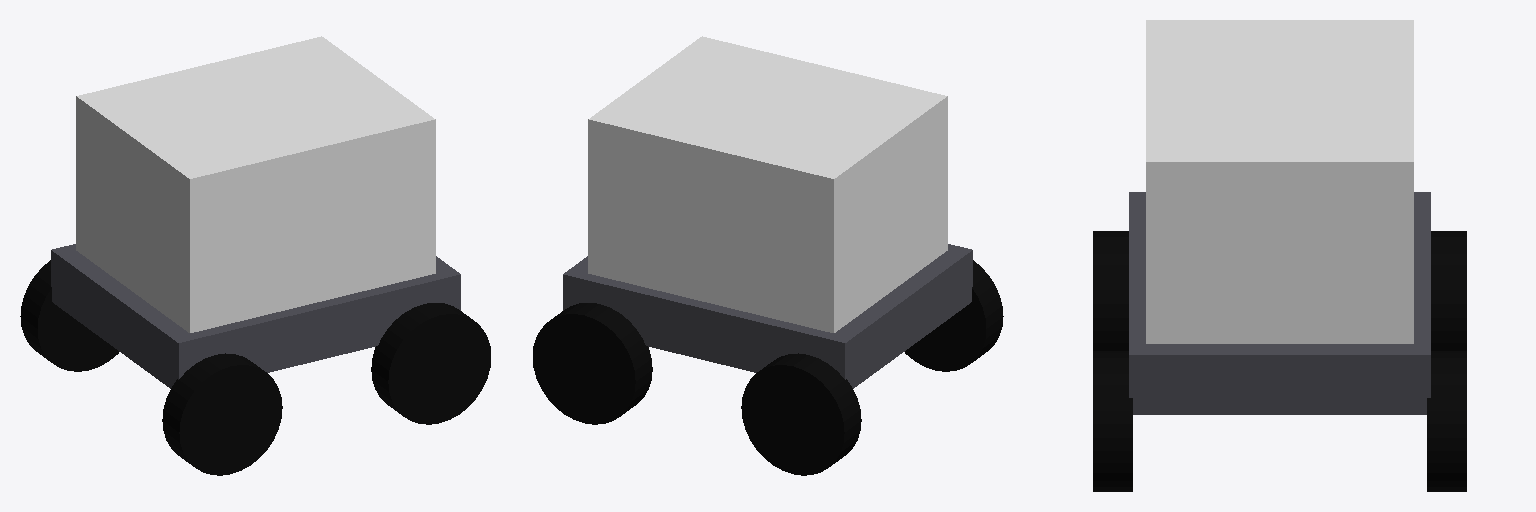
robot.urdf — mse6_4wd:
<?xml version="1.0"?>
<!--
  MSE-6 4WD rover URDF — placeholder geometry for the sim-to-real scaffold.

  Conventions:
    - SI units: meters, kilograms, radians.
    - World/base frame: x forward, y left, z up.
    - Continuous wheel joints (no angle limits) per the differential-drive
      action space. Front-left + rear-left share a side, FR + RR the other.
    - Inertial values reflect a top-heavy hollow shell over a 4WD chassis;
      shell_mass/com_offset are overridden at runtime from
      ``RoverInertialConfig`` so this file stays a sensible default.
    - Meshes intentionally absent: this PR ships primitive boxes/cylinders
      so the URDF loads in any viewer without external assets. Real CAD
      meshes will replace these once authored.
-->
<robot name="mse6_4wd">

  <!-- ===================== Materials ===================== -->
  <material name="droid_white">
    <color rgba="0.92 0.92 0.92 1.0"/>
  </material>
  <material name="tire_black">
    <color rgba="0.08 0.08 0.08 1.0"/>
  </material>
  <material name="chassis_grey">
    <color rgba="0.35 0.35 0.38 1.0"/>
  </material>

  <!-- ===================== Base / Chassis ===================== -->
  <!--
    base_link models the chassis plate plus the MSE-6 shell as a single
    rigid body. The shell sits above the chassis so the COM is biased
    upward, matching the top-heavy roll dynamics the policy must learn.

    Approximate values for a 230 mm x 180 mm chassis with a hollow ABS
    shell at 3 mm wall / 20% infill. Re-derived at runtime from
    RoverInertialConfig — these are documentation-quality defaults only.
  -->
  <link name="base_link">
    <inertial>
      <origin xyz="0.0 0.0 0.04" rpy="0 0 0"/>
      <mass value="1.45"/>
      <!--
        Cuboid approximation: 0.23 m (x) x 0.18 m (y) x 0.14 m (z).
          ixx = (1/12) * m * (y^2 + z^2)
          iyy = (1/12) * m * (x^2 + z^2)
          izz = (1/12) * m * (x^2 + y^2)
      -->
      <inertia
        ixx="0.00629" ixy="0.0" ixz="0.0"
        iyy="0.00876" iyz="0.0"
        izz="0.01030"/>
    </inertial>
    <visual>
      <origin xyz="0.0 0.0 0.02" rpy="0 0 0"/>
      <geometry>
        <box size="0.23 0.18 0.04"/>
      </geometry>
      <material name="chassis_grey"/>
    </visual>
    <visual>
      <origin xyz="0.0 0.0 0.10" rpy="0 0 0"/>
      <geometry>
        <box size="0.20 0.16 0.12"/>
      </geometry>
      <material name="droid_white"/>
    </visual>
    <collision>
      <origin xyz="0.0 0.0 0.06" rpy="0 0 0"/>
      <geometry>
        <box size="0.23 0.18 0.16"/>
      </geometry>
    </collision>
  </link>

  <!-- ===================== Wheels ===================== -->
  <!--
    Continuous joints (no angle limits) so the policy can command
    unbounded rotation. Wheels are visually cylinders aligned along
    the body Y axis (rotated 90 deg about X for the URDF convention).
  -->

  <!-- Front-Left wheel -->
  <link name="wheel_fl">
    <inertial>
      <origin xyz="0.0 0.0 0.0" rpy="0 0 0"/>
      <mass value="0.06"/>
      <!-- Solid cylinder: r=0.042, h=0.024
           ixx = iyy = (1/12) m (3 r^2 + h^2)
           izz = (1/2) m r^2  (axis through cylinder axis) -->
      <inertia
        ixx="0.0000293" ixy="0.0" ixz="0.0"
        iyy="0.0000293" iyz="0.0"
        izz="0.0000529"/>
    </inertial>
    <visual>
      <origin xyz="0.0 0.0 0.0" rpy="1.5707963 0 0"/>
      <geometry>
        <cylinder radius="0.042" length="0.024"/>
      </geometry>
      <material name="tire_black"/>
    </visual>
    <collision>
      <origin xyz="0.0 0.0 0.0" rpy="1.5707963 0 0"/>
      <geometry>
        <cylinder radius="0.042" length="0.024"/>
      </geometry>
    </collision>
  </link>

  <joint name="joint_wheel_fl" type="continuous">
    <parent link="base_link"/>
    <child link="wheel_fl"/>
    <origin xyz="0.085 0.10 -0.018" rpy="0 0 0"/>
    <axis xyz="0 1 0"/>
    <dynamics damping="0.01" friction="0.0"/>
  </joint>

  <!-- Front-Right wheel -->
  <link name="wheel_fr">
    <inertial>
      <origin xyz="0.0 0.0 0.0" rpy="0 0 0"/>
      <mass value="0.06"/>
      <inertia
        ixx="0.0000293" ixy="0.0" ixz="0.0"
        iyy="0.0000293" iyz="0.0"
        izz="0.0000529"/>
    </inertial>
    <visual>
      <origin xyz="0.0 0.0 0.0" rpy="1.5707963 0 0"/>
      <geometry>
        <cylinder radius="0.042" length="0.024"/>
      </geometry>
      <material name="tire_black"/>
    </visual>
    <collision>
      <origin xyz="0.0 0.0 0.0" rpy="1.5707963 0 0"/>
      <geometry>
        <cylinder radius="0.042" length="0.024"/>
      </geometry>
    </collision>
  </link>

  <joint name="joint_wheel_fr" type="continuous">
    <parent link="base_link"/>
    <child link="wheel_fr"/>
    <origin xyz="0.085 -0.10 -0.018" rpy="0 0 0"/>
    <axis xyz="0 1 0"/>
    <dynamics damping="0.01" friction="0.0"/>
  </joint>

  <!-- Rear-Left wheel -->
  <link name="wheel_rl">
    <inertial>
      <origin xyz="0.0 0.0 0.0" rpy="0 0 0"/>
      <mass value="0.06"/>
      <inertia
        ixx="0.0000293" ixy="0.0" ixz="0.0"
        iyy="0.0000293" iyz="0.0"
        izz="0.0000529"/>
    </inertial>
    <visual>
      <origin xyz="0.0 0.0 0.0" rpy="1.5707963 0 0"/>
      <geometry>
        <cylinder radius="0.042" length="0.024"/>
      </geometry>
      <material name="tire_black"/>
    </visual>
    <collision>
      <origin xyz="0.0 0.0 0.0" rpy="1.5707963 0 0"/>
      <geometry>
        <cylinder radius="0.042" length="0.024"/>
      </geometry>
    </collision>
  </link>

  <joint name="joint_wheel_rl" type="continuous">
    <parent link="base_link"/>
    <child link="wheel_rl"/>
    <origin xyz="-0.085 0.10 -0.018" rpy="0 0 0"/>
    <axis xyz="0 1 0"/>
    <dynamics damping="0.01" friction="0.0"/>
  </joint>

  <!-- Rear-Right wheel -->
  <link name="wheel_rr">
    <inertial>
      <origin xyz="0.0 0.0 0.0" rpy="0 0 0"/>
      <mass value="0.06"/>
      <inertia
        ixx="0.0000293" ixy="0.0" ixz="0.0"
        iyy="0.0000293" iyz="0.0"
        izz="0.0000529"/>
    </inertial>
    <visual>
      <origin xyz="0.0 0.0 0.0" rpy="1.5707963 0 0"/>
      <geometry>
        <cylinder radius="0.042" length="0.024"/>
      </geometry>
      <material name="tire_black"/>
    </visual>
    <collision>
      <origin xyz="0.0 0.0 0.0" rpy="1.5707963 0 0"/>
      <geometry>
        <cylinder radius="0.042" length="0.024"/>
      </geometry>
    </collision>
  </link>

  <joint name="joint_wheel_rr" type="continuous">
    <parent link="base_link"/>
    <child link="wheel_rr"/>
    <origin xyz="-0.085 -0.10 -0.018" rpy="0 0 0"/>
    <axis xyz="0 1 0"/>
    <dynamics damping="0.01" friction="0.0"/>
  </joint>

  <!-- ===================== Sensor frames ===================== -->
  <!--
    Zero-mass frames for IMU + camera + LiDAR. The Isaac Lab env stub
    attaches sensors to these frames; real driver coordinates flow
    through the same names.
  -->
  <link name="imu_link"/>
  <joint name="joint_imu" type="fixed">
    <parent link="base_link"/>
    <child link="imu_link"/>
    <origin xyz="0.0 0.0 0.04" rpy="0 0 0"/>
  </joint>

  <link name="lidar_link"/>
  <joint name="joint_lidar" type="fixed">
    <parent link="base_link"/>
    <child link="lidar_link"/>
    <origin xyz="0.05 0.0 0.17" rpy="0 0 0"/>
  </joint>

  <link name="camera_link"/>
  <joint name="joint_camera" type="fixed">
    <parent link="base_link"/>
    <child link="camera_link"/>
    <origin xyz="0.10 0.0 0.13" rpy="0 0 0"/>
  </joint>

</robot>

--- What the picture shows (computed from the rendered views, not written in the file) ---
Views: 3 orthographic renders of the robot side by side, from view 1: azimuth 30°, elevation 25°; view 2: azimuth 150°, elevation 25°; view 3: azimuth 270°, elevation 25°.
Model mse6_4wd with 8 links and 7 joints (4 continuous, 3 fixed), rooted at base_link, posed every joint at zero.
Visible links, largest first — view 1: base_link, wheel_rr, wheel_fr, wheel_rl; view 2: base_link, wheel_rl, wheel_fl, wheel_rr; view 3: base_link, wheel_fl, wheel_fr, wheel_rl, wheel_rr.
Link boxes in pixels (box(x1,y1,x2,y2)): base_link: box(51, 36, 460, 388); wheel_rr: box(162, 353, 282, 475); wheel_fr: box(371, 303, 490, 424); wheel_rl: box(20, 260, 118, 371); base_link: box(563, 36, 972, 388); wheel_rl: box(741, 353, 861, 475); wheel_fl: box(533, 303, 652, 424); wheel_rr: box(905, 260, 1003, 371); base_link: box(1129, 20, 1430, 414); wheel_fl: box(1427, 351, 1466, 491); wheel_fr: box(1093, 351, 1132, 491); wheel_rl: box(1431, 231, 1466, 350); wheel_rr: box(1093, 231, 1128, 350).
Bounding box of the posed robot: 0.254 × 0.224 × 0.22 m (x, y, z).
Geometry: primitives only (box / cylinder / sphere), no mesh files.
